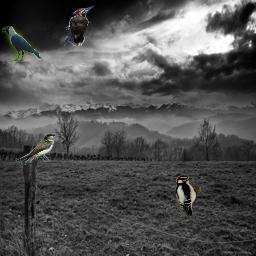Crow: (2, 26, 42, 61)
Swallow: (16, 133, 56, 165)
Woodpecker: (64, 6, 95, 46), (176, 176, 201, 216)
